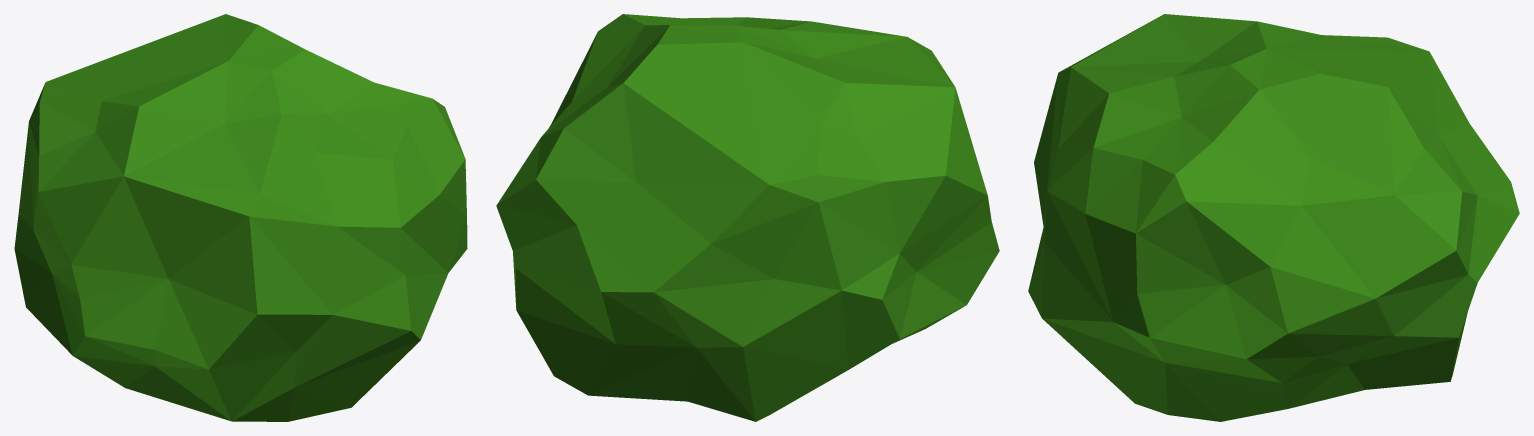
The model's file is BushB.fbx.
3 renders of one model, left to right at view 1: azimuth 30°, elevation 25°; view 2: azimuth 150°, elevation 25°; view 3: azimuth 270°, elevation 25°, orthographic. The views are drawn at different scales.
Parts seen in each view (by area): view 1: bushB_geo; view 2: bushB_geo; view 3: bushB_geo.
Boxes of the visible parts, <box> form: bushB_geo: <box>14,14,467,421</box>; bushB_geo: <box>496,14,999,421</box>; bushB_geo: <box>1028,14,1519,421</box>.
Size of the model in its own units: 127 by 98.79 by 133.
